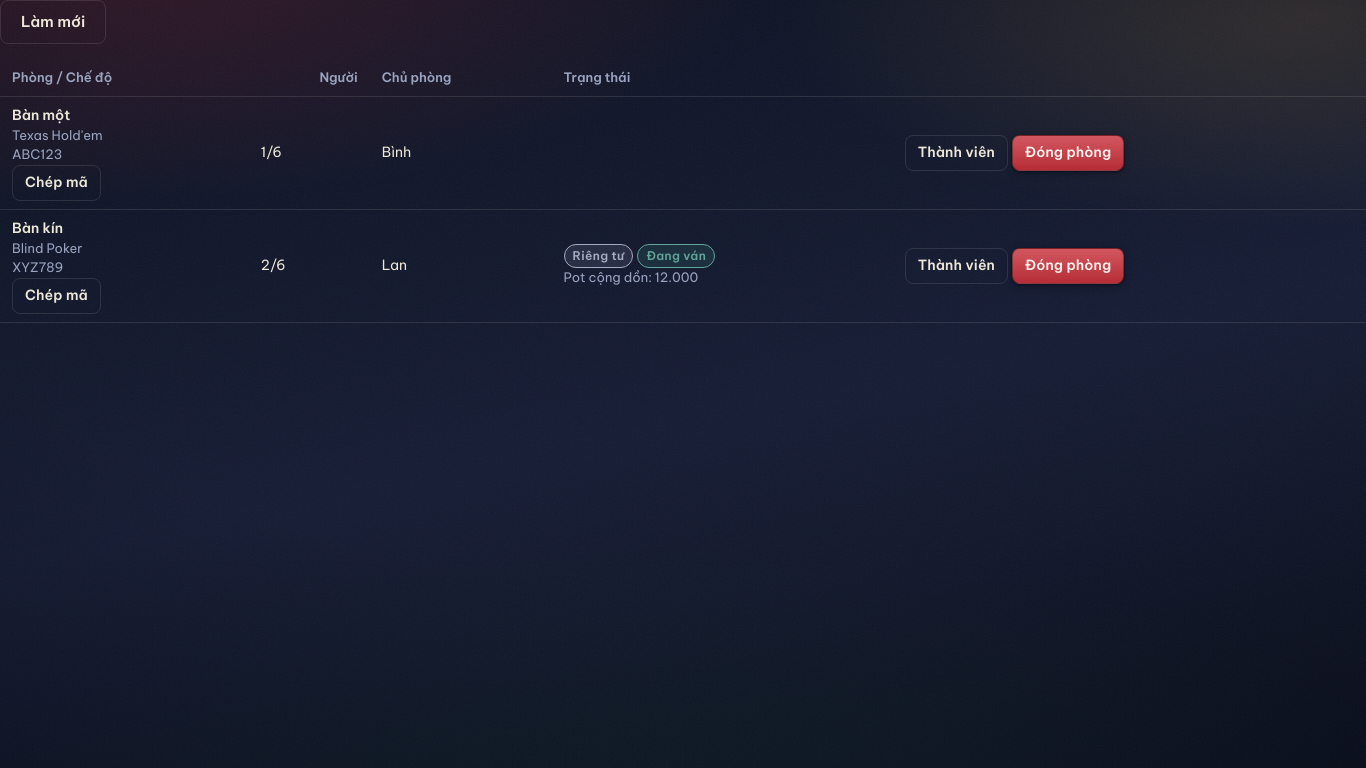
RoomsTab › opens a room to its members: a bot is labelled and cannot be removed, a person can
The image size is (1366, 768).
Expected: the text "Máy 1" is not shown
Click the button "Thành viên" in the row of "Blind Poker": [956, 266] box [905, 248, 1008, 284]
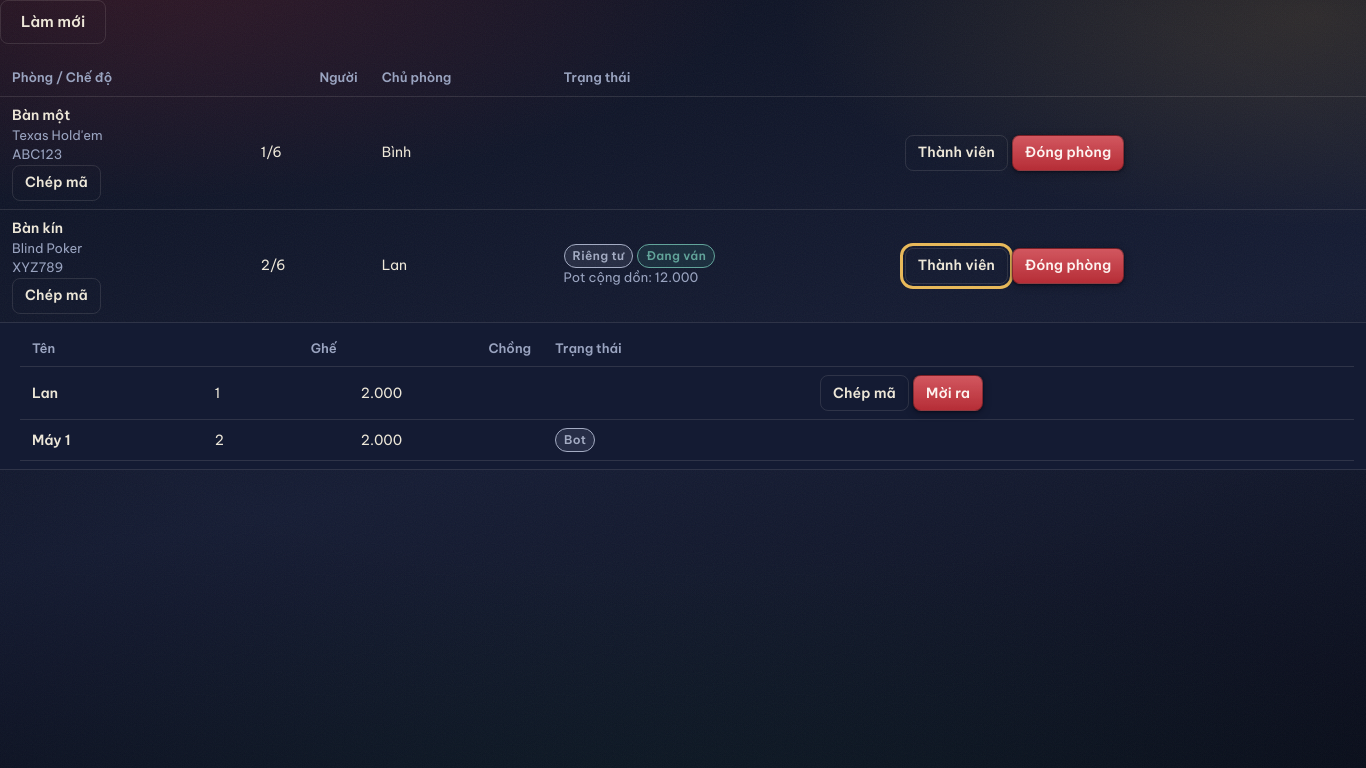
Expected: the text "Bot" is shown, [555, 428, 595, 452]
Expected: the text "Lan" is shown, [32, 384, 58, 402]
